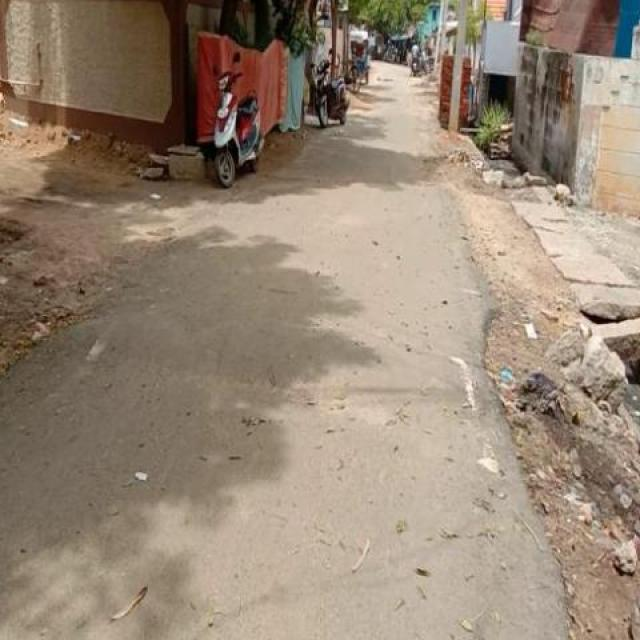Unmarked Bump: (59, 314, 498, 414)
